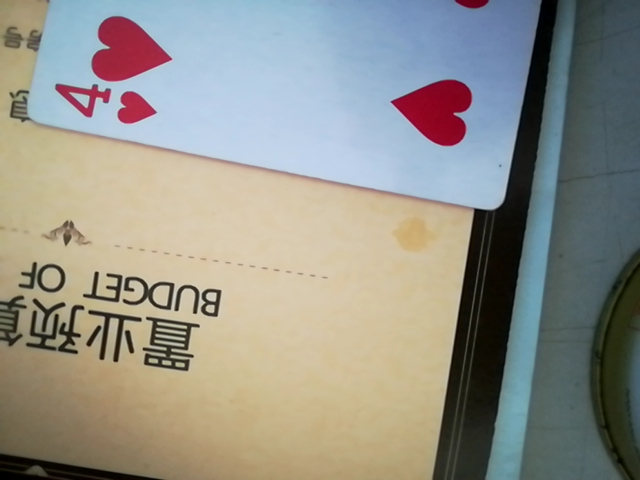hx 4: (30, 0, 565, 210)
